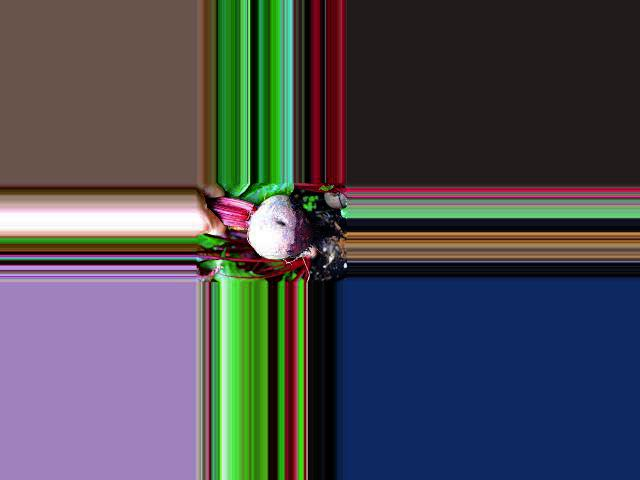beet: (205, 195, 347, 260)
